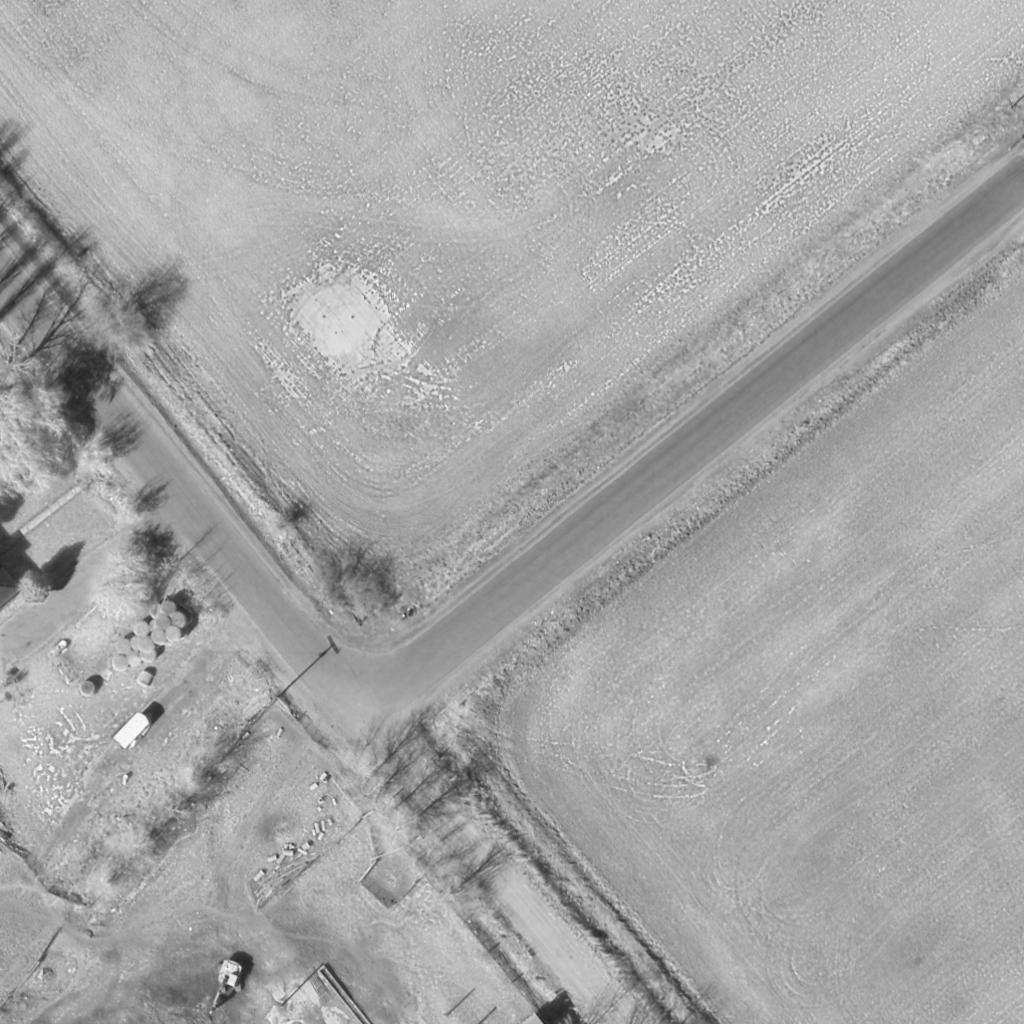vehicle: (205, 958, 243, 1020), (111, 707, 161, 751)
